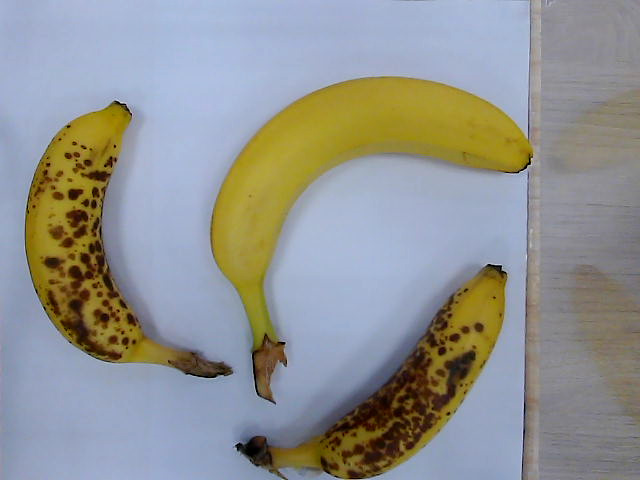fresh_banana: (209, 76, 531, 264)
rotten_banana: (24, 102, 232, 379), (245, 267, 510, 480)
